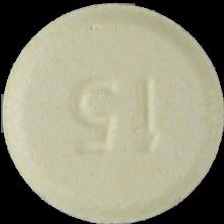0093-5247: (0, 0, 224, 224)
